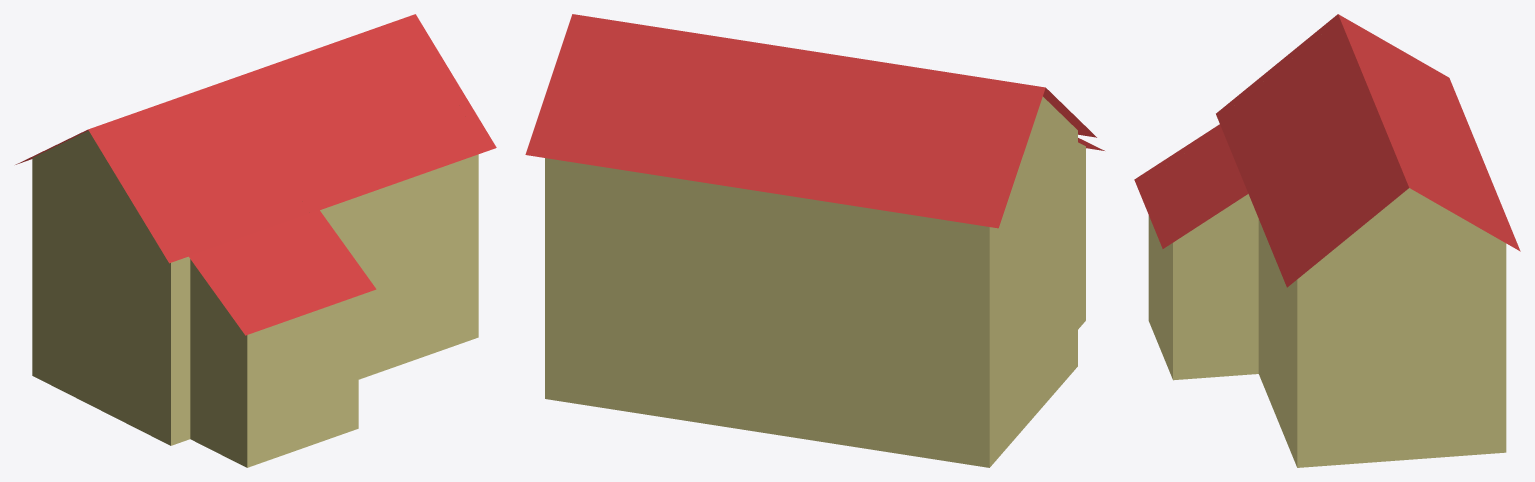
3 renders of one model, left to right at view 1: azimuth 30°, elevation 25°; view 2: azimuth 150°, elevation 25°; view 3: azimuth 270°, elevation 25°, orthographic. The views are drawn at different scales.
Bounding box in the file's own units: 17.96 × 15.35 × 12.15.
